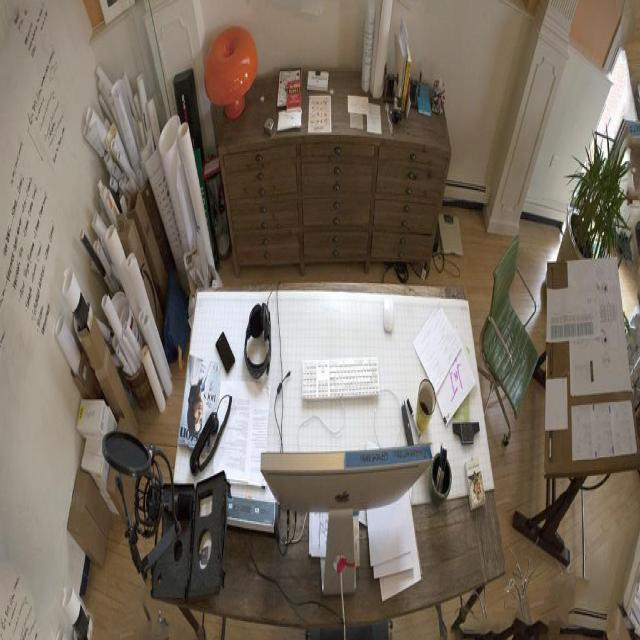Table: (171, 287, 504, 624)
